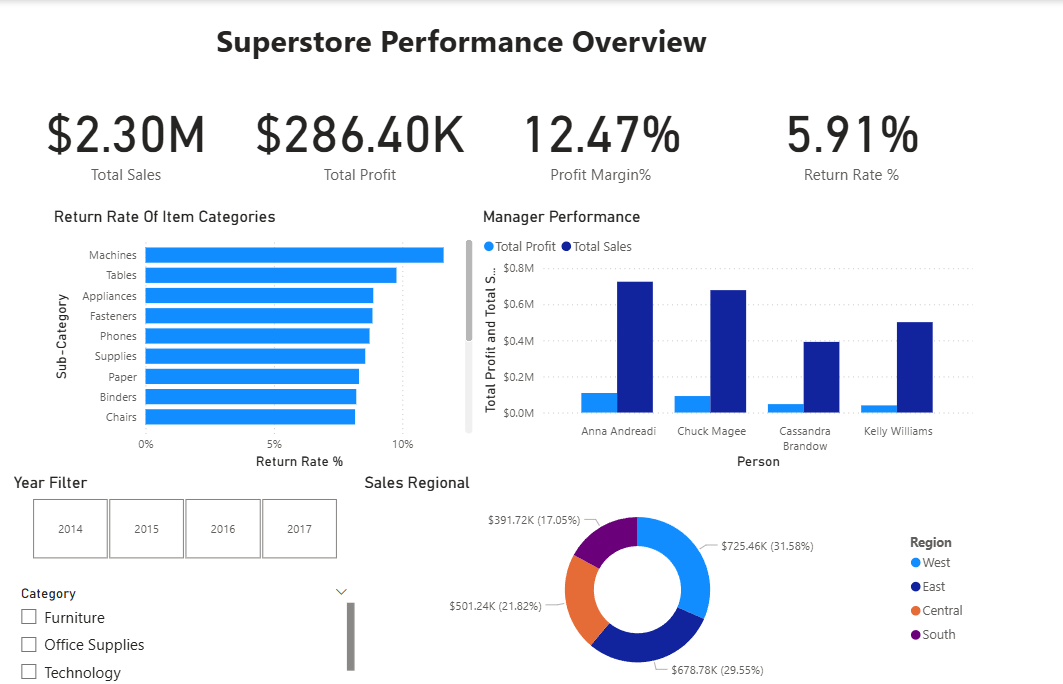

The page's visual inventory and layout, read from the dashboard file:
{"tool":"powerbi","page":{"name":"Summary","canvas":[1280,720],"ordinal":0},"visuals":[{"type":"textbox","box":[190.4,14.2,901.3,68.9],"z":0},{"type":"card","fields":{"Values":["_KeyMetrics.Total Sales"]},"box":[166.8,68.9,243,149.9],"z":1000},{"type":"card","fields":{"Values":["_KeyMetrics.Total Profit"]},"box":[409.8,68.9,249.1,149.9],"z":2000},{"type":"card","fields":{"Values":["_KeyMetrics.Profit Margin%"]},"box":[658.9,68.9,257.2,149.9],"z":3000},{"type":"card","fields":{"Values":["_KeyMetrics.Return Rate %"]},"box":[916.1,68.9,267.3,149.9],"z":4000},{"type":"clusteredBarChart","title":"Return Rate Of Item Categories","fields":{"Y":["_KeyMetrics.Return Rate %"],"Category":["Orders.Sub-Category"]},"box":[208.6,216.7,449.6,279.5],"z":5000},{"type":"clusteredColumnChart","title":"Manager Performance","fields":{"Category":["People.Person"],"Y":["_KeyMetrics.Total Profit","_KeyMetrics.Total Sales"]},"box":[658.2,216.7,524.6,279.5],"z":6000},{"type":"donutChart","title":"Sales Regional","fields":{"Category":["Orders.Region"],"Y":["_KeyMetrics.Total Sales"]},"box":[534.7,496.2,648.1,224.8],"z":7000},{"type":"slicer","title":"Year Filter","fields":{"Values":["Datetable.Year"]},"box":[166.1,496.2,368.6,97.2],"z":8000},{"type":"slicer","fields":{"Values":["Orders.Category"]},"box":[166.1,609.6,368.6,111.4],"z":9000}]}

Visuals, with their boxes on the page's 1280x720 design canvas (x1, y1, x2, y2). These are canvas units, not pixel positions in the 1063x684 screenshot, which may show the page scaled, cropped or inside an application window:
textbox: BBox(190, 14, 1092, 83)
card - _KeyMetrics.Total Sales: BBox(167, 69, 410, 219)
card - _KeyMetrics.Total Profit: BBox(410, 69, 659, 219)
card - _KeyMetrics.Profit Margin%: BBox(659, 69, 916, 219)
card - _KeyMetrics.Return Rate %: BBox(916, 69, 1183, 219)
"Return Rate Of Item Categories" clusteredBarChart: BBox(209, 217, 658, 496)
"Manager Performance" clusteredColumnChart: BBox(658, 217, 1183, 496)
"Sales Regional" donutChart: BBox(535, 496, 1183, 721)
"Year Filter" slicer: BBox(166, 496, 535, 593)
slicer - Orders.Category: BBox(166, 610, 535, 721)
